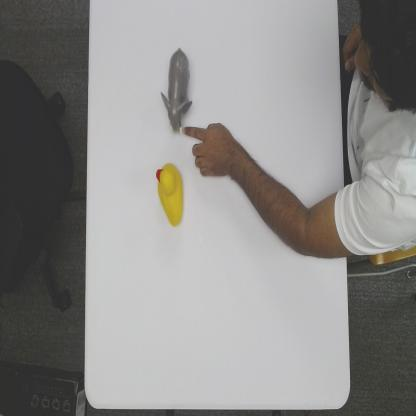Arm: (246, 152, 362, 270)
Duck: (154, 162, 185, 228)
Elephant: (160, 47, 194, 134)
Hand: (184, 119, 238, 186)
